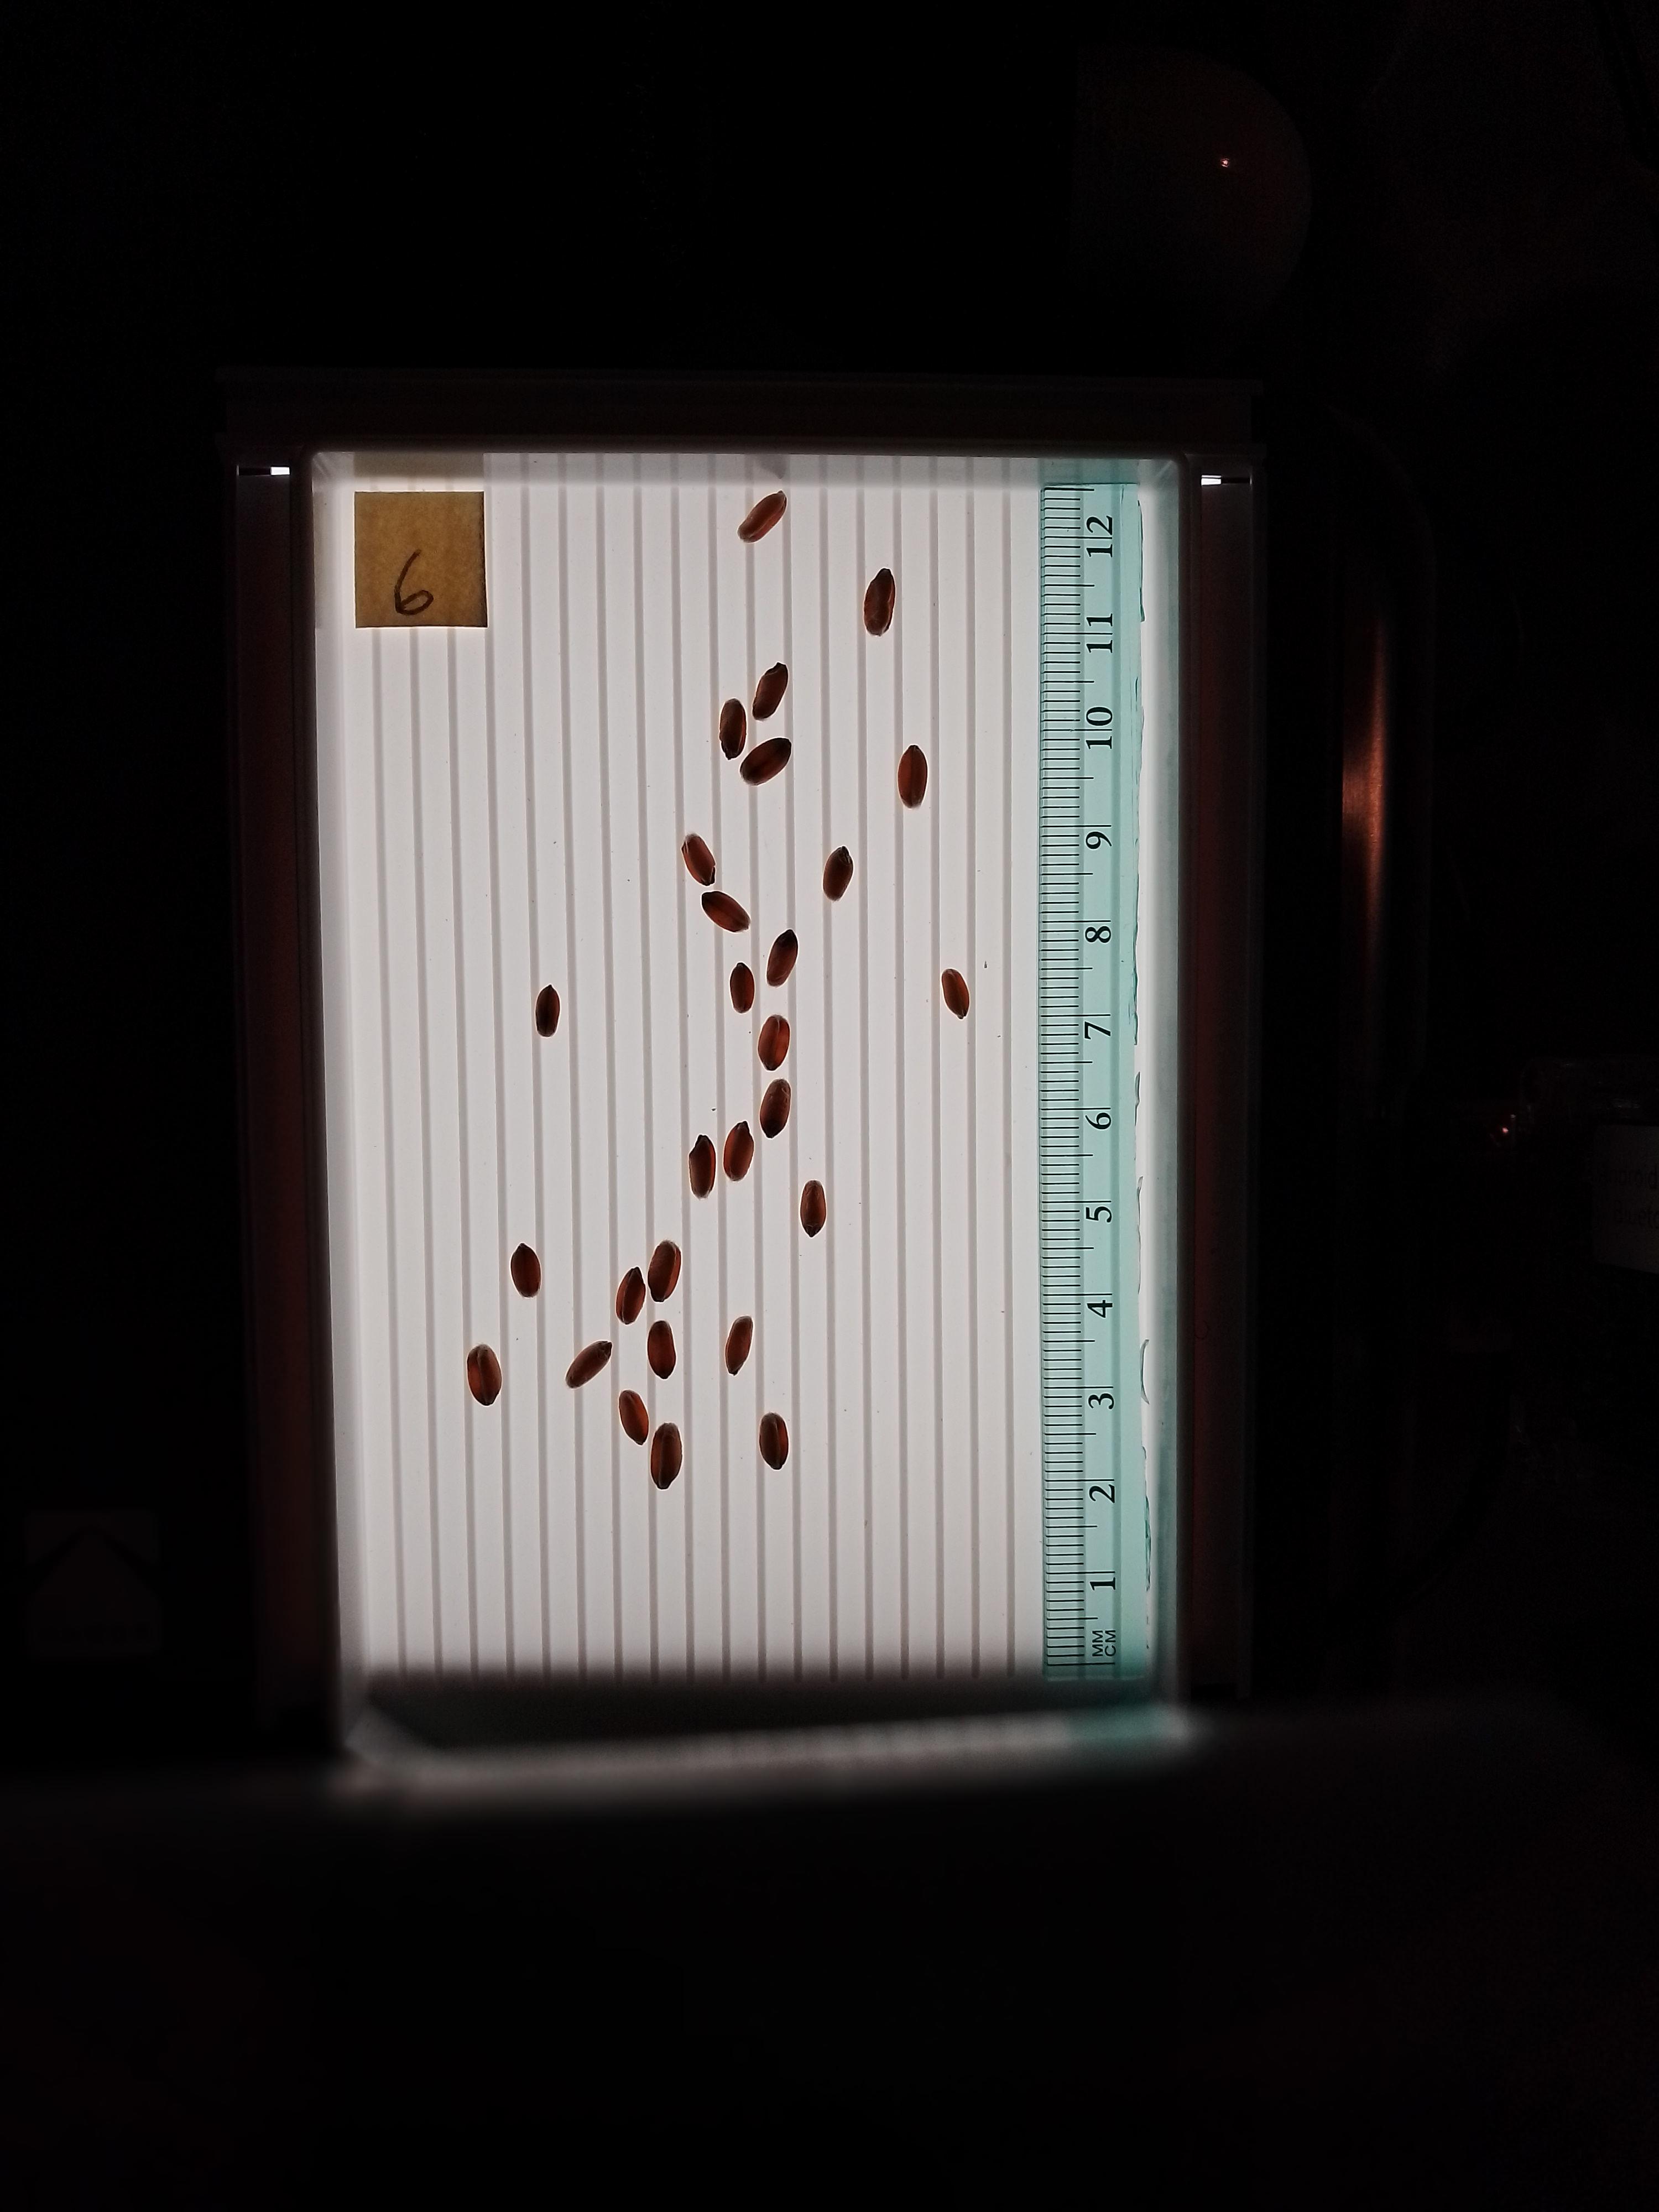seed mask: (741, 738, 789, 786), (739, 493, 786, 542), (650, 1423, 683, 1489), (467, 1346, 502, 1406), (566, 1341, 610, 1388), (863, 571, 894, 636), (753, 665, 789, 719), (702, 892, 749, 934), (897, 745, 929, 808), (648, 1244, 681, 1301), (681, 834, 716, 887), (688, 1137, 716, 1197), (758, 1017, 789, 1069), (767, 932, 798, 984), (619, 1390, 648, 1444), (760, 1414, 789, 1468), (760, 1082, 789, 1136), (725, 1123, 753, 1179), (824, 848, 854, 900), (617, 1268, 645, 1322), (727, 1317, 753, 1374), (720, 700, 746, 758), (648, 1322, 674, 1378), (800, 1181, 826, 1237), (512, 1247, 542, 1296), (941, 970, 971, 1019), (535, 988, 559, 1036), (730, 967, 755, 1012)
